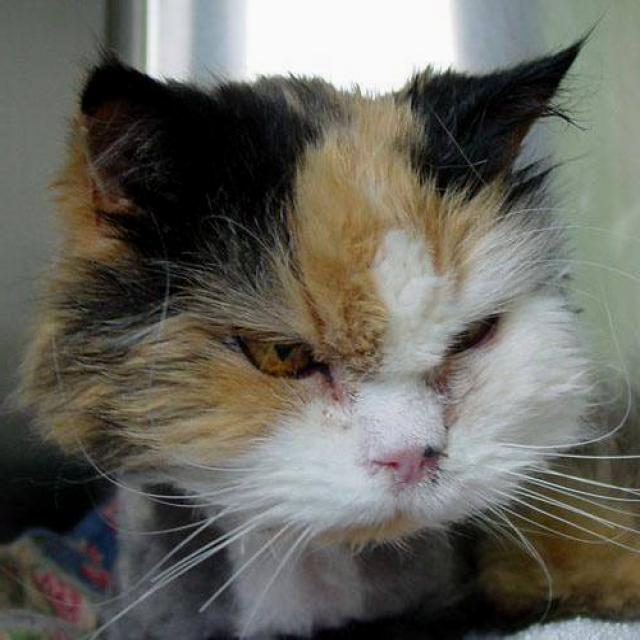Kucing: (0, 3, 617, 606)
